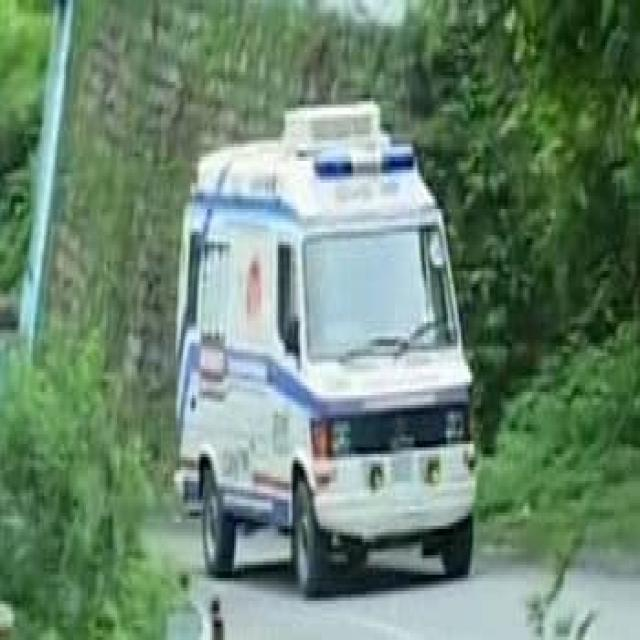ambulance: (183, 105, 478, 593)
